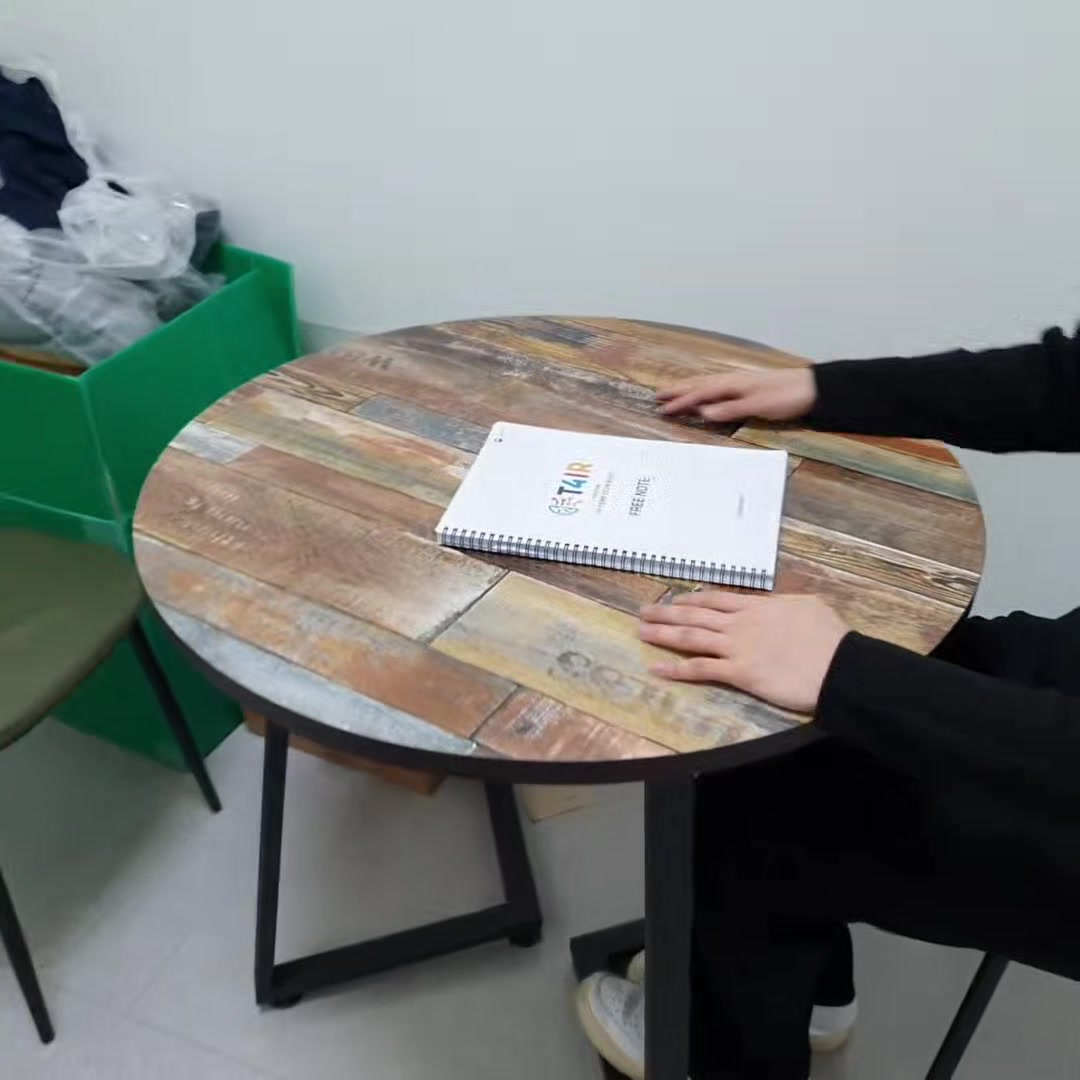book: (430, 414, 793, 596)
